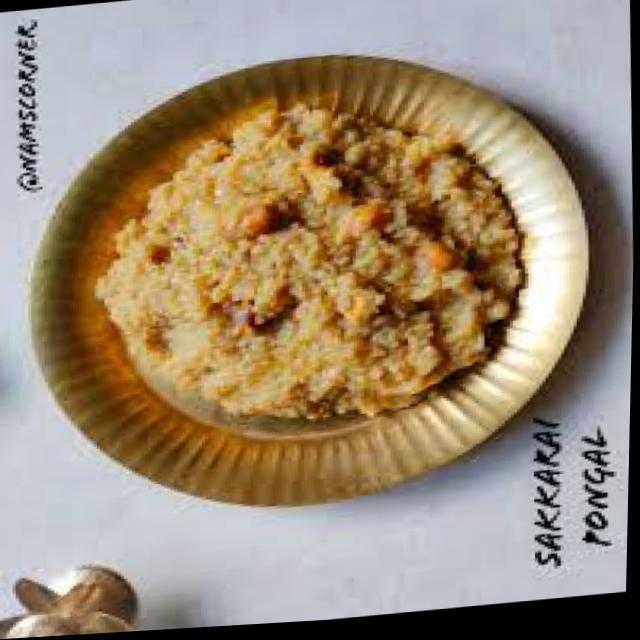PONGAL: (94, 103, 518, 420)
